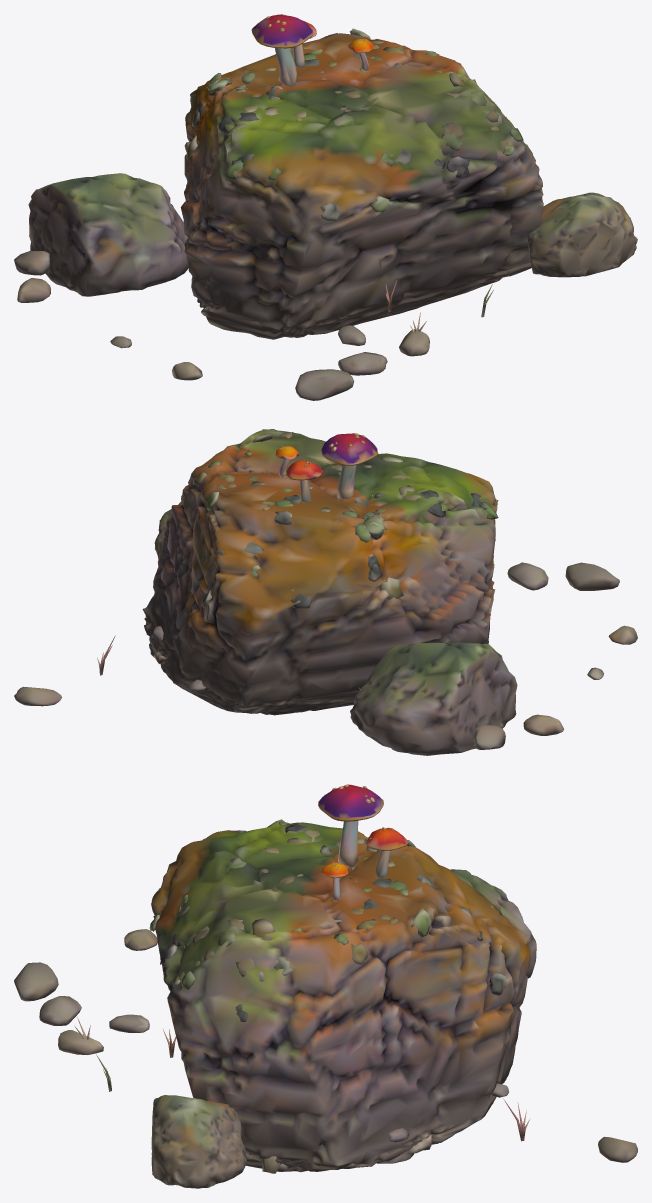
The model's file is tas_buyuk.glb.
The picture shows the model from 3 angles, top to bottom: view 1: azimuth 30°, elevation 25°; view 2: azimuth 150°, elevation 25°; view 3: azimuth 270°, elevation 25°; orthographic projection. The views are drawn at different scales.
Parts seen in each view (by area): view 1: tas_buyuk_LOD0; view 2: tas_buyuk_LOD0; view 3: tas_buyuk_LOD0.
Part boxes in pixels (x1,y1,x2,y2): tas_buyuk_LOD0: (14, 14, 637, 400); tas_buyuk_LOD0: (14, 429, 637, 755); tas_buyuk_LOD0: (14, 784, 637, 1188).
Size of what is drawn, in the model's own units: 5.79 by 2.93 by 5.58.
